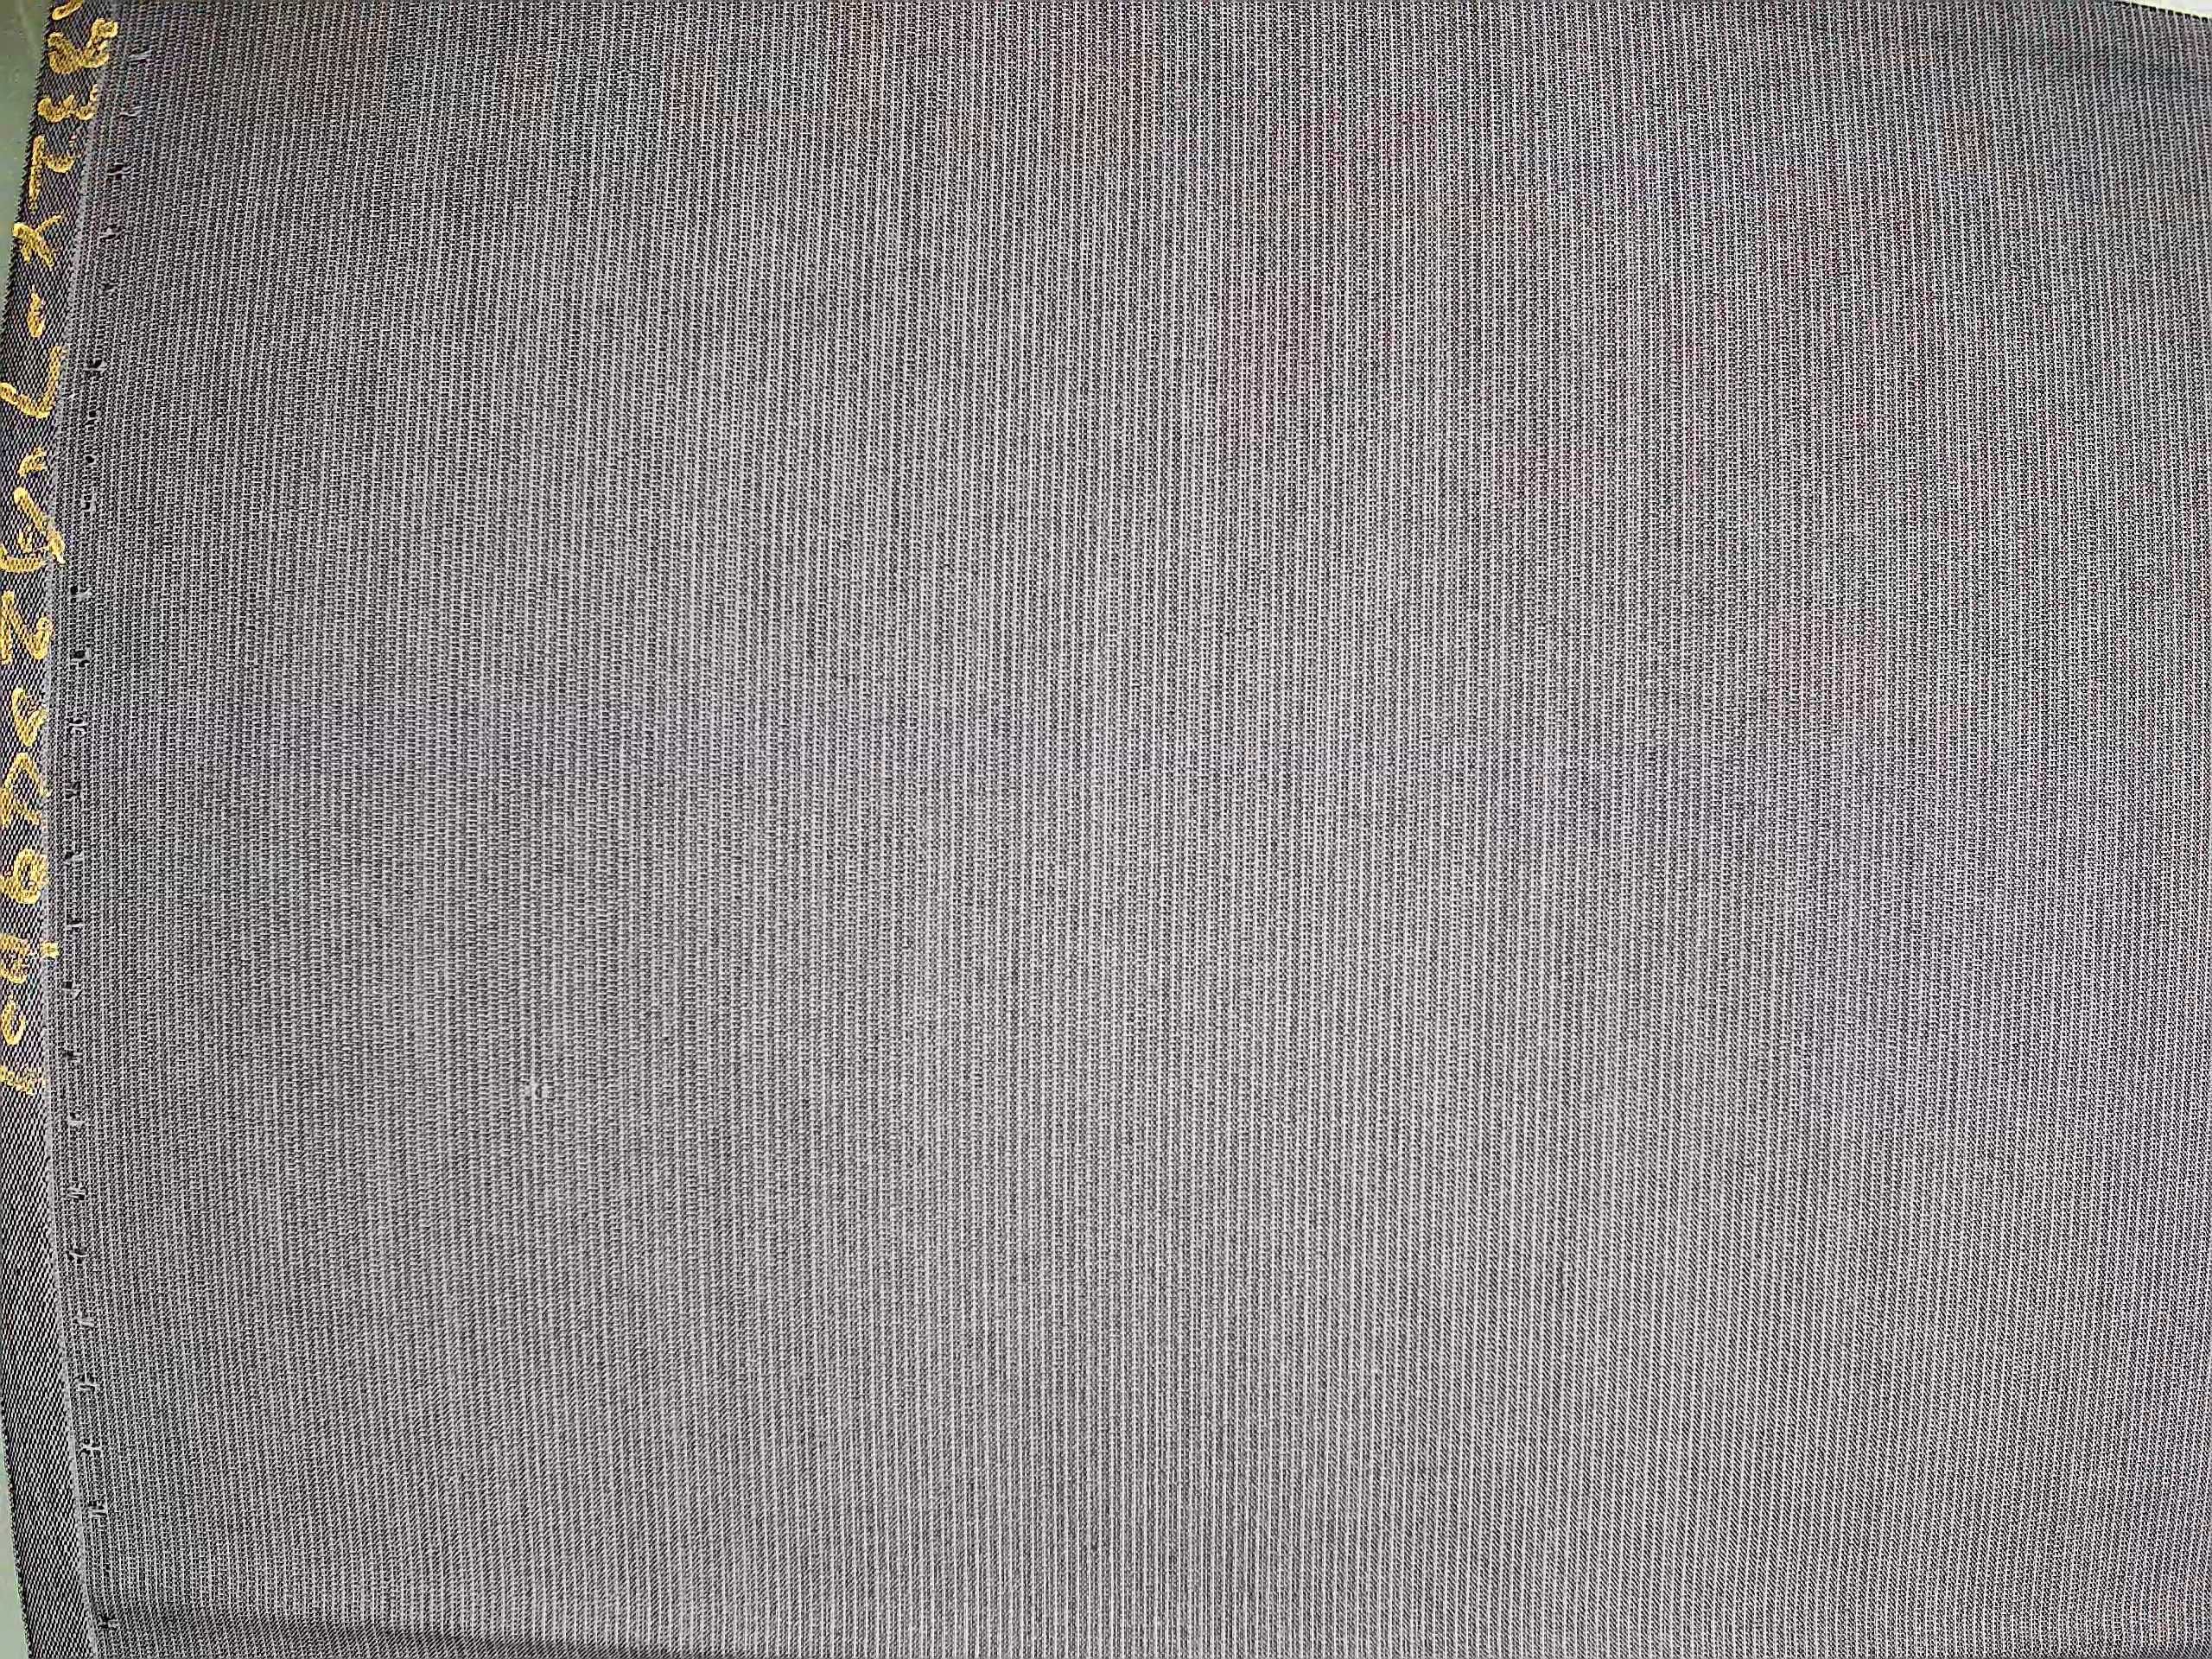puncture-hole: (56, 24, 139, 1643), (516, 1065, 566, 1117)
